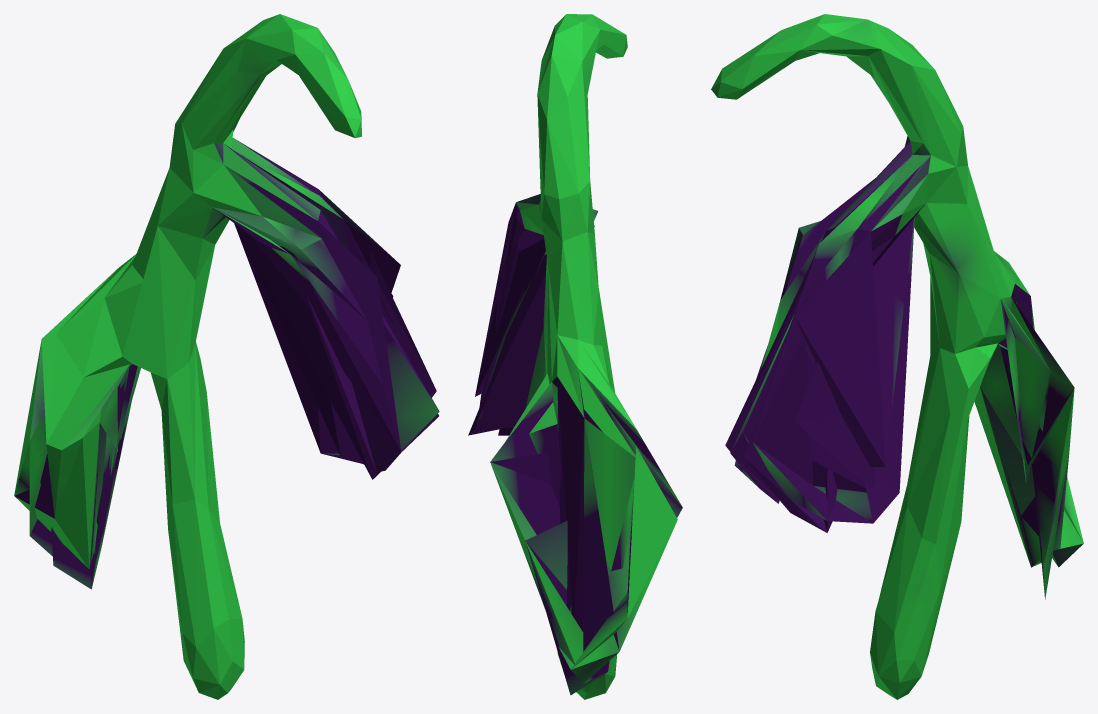
The model's file is Eggplant.fbx.
3 views of the same model, side by side, from view 1: azimuth 30°, elevation 25°; view 2: azimuth 150°, elevation 25°; view 3: azimuth 270°, elevation 25° (orthographic). The views are drawn at different scales.
Parts seen in each view (by area): view 1: Eggplant; view 2: Eggplant; view 3: Eggplant.
Part boxes in pixels (bbox=[...]): Eggplant: bbox=[14, 14, 439, 699]; Eggplant: bbox=[468, 14, 682, 699]; Eggplant: bbox=[711, 14, 1083, 699].
Size of the model in its own units: 283 by 633 by 304.
1 material, 1 textured.
